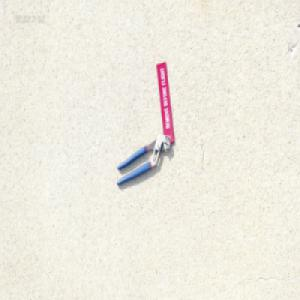Label: (156, 61, 175, 143)
Pliers: (116, 132, 171, 186)
